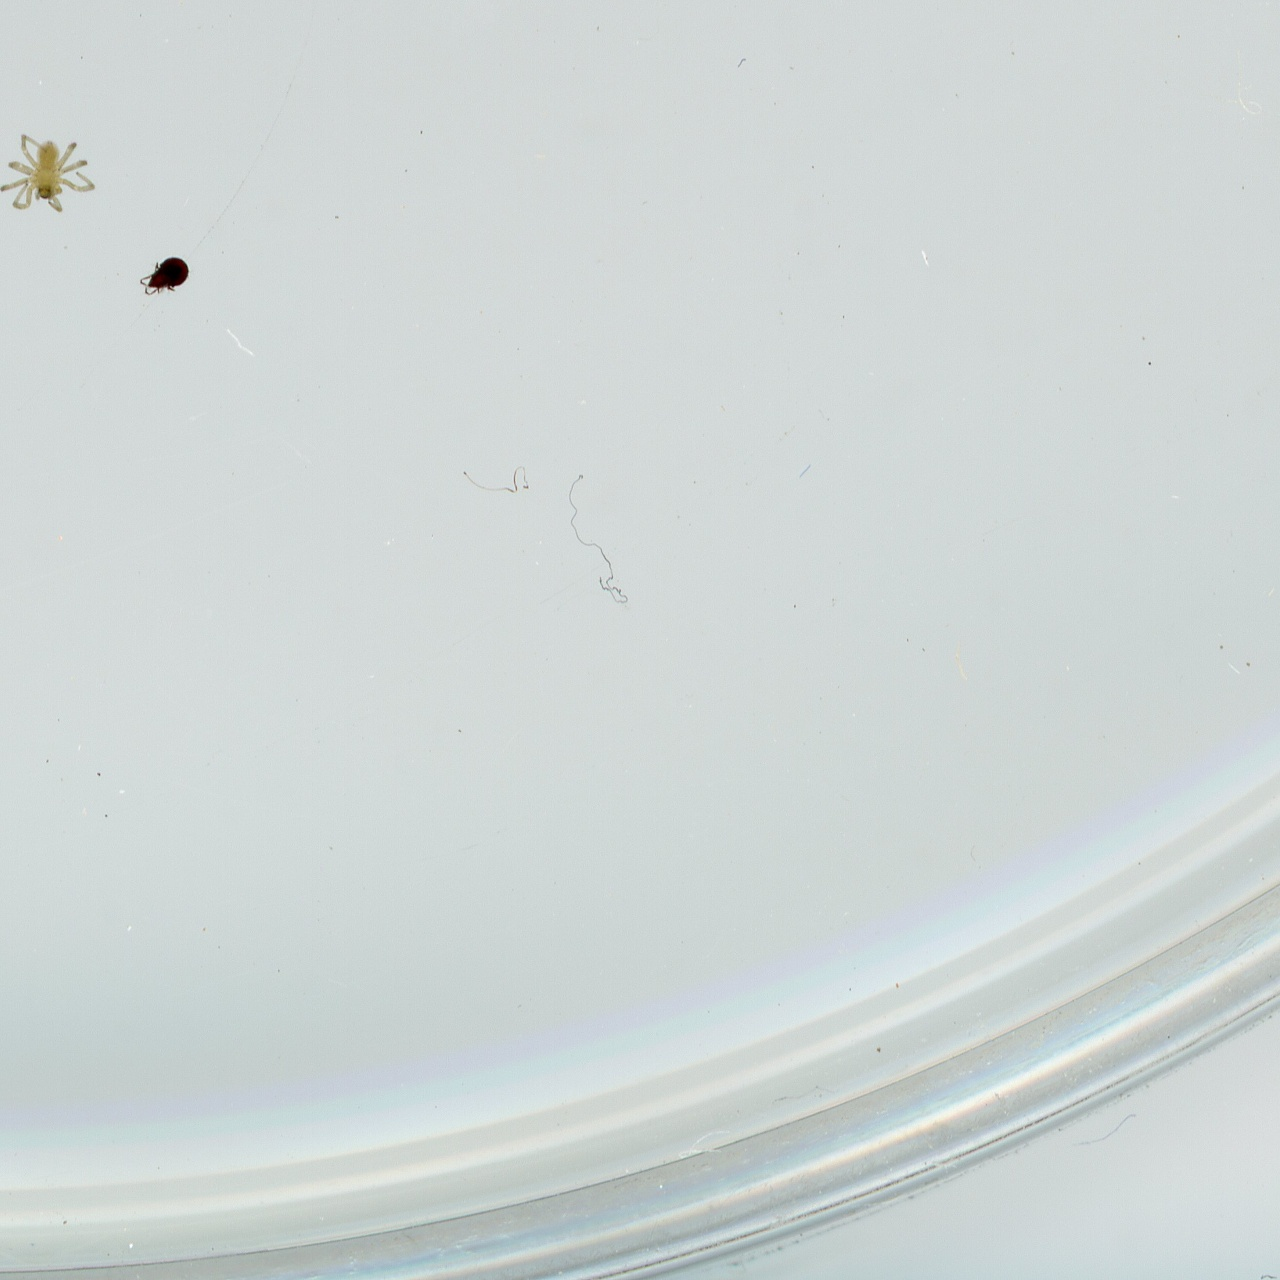arthropod: (0, 132, 102, 214), (136, 252, 194, 300)
